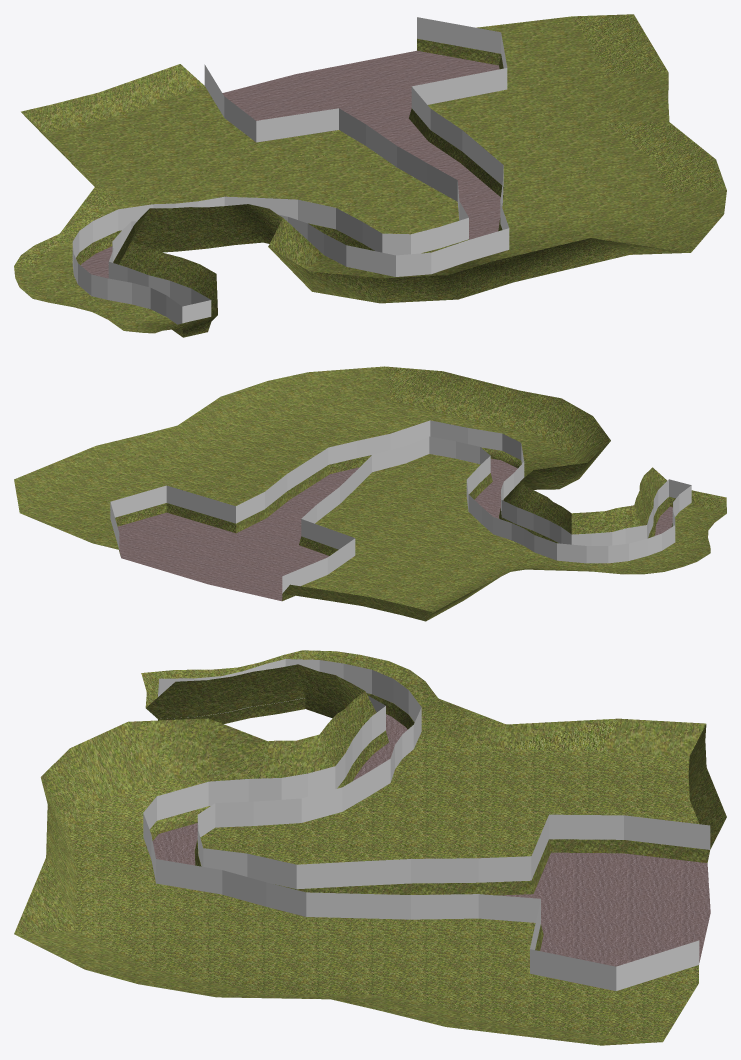
The model's file is cjustice_map.FBX.
The picture shows the model from 3 angles, top to bottom: view 1: azimuth 30°, elevation 25°; view 2: azimuth 150°, elevation 25°; view 3: azimuth 270°, elevation 25°; orthographic projection. The views are drawn at different scales.
Visible parts, largest first — view 1: cjustice_map, cjustice_col, cjustice_water; view 2: cjustice_map, cjustice_col, cjustice_water; view 3: cjustice_map, cjustice_col, cjustice_water.
Boxes of the visible parts, x1,y1,x2,y2 form: cjustice_map: [14, 14, 726, 337]; cjustice_col: [72, 17, 509, 324]; cjustice_water: [81, 50, 502, 278]; cjustice_map: [14, 366, 726, 621]; cjustice_col: [110, 420, 691, 593]; cjustice_water: [117, 458, 672, 601]; cjustice_map: [14, 650, 726, 1045]; cjustice_col: [143, 659, 710, 990]; cjustice_water: [147, 714, 710, 966].
Size of the model in its own units: 3548 by 2634 by 231.
